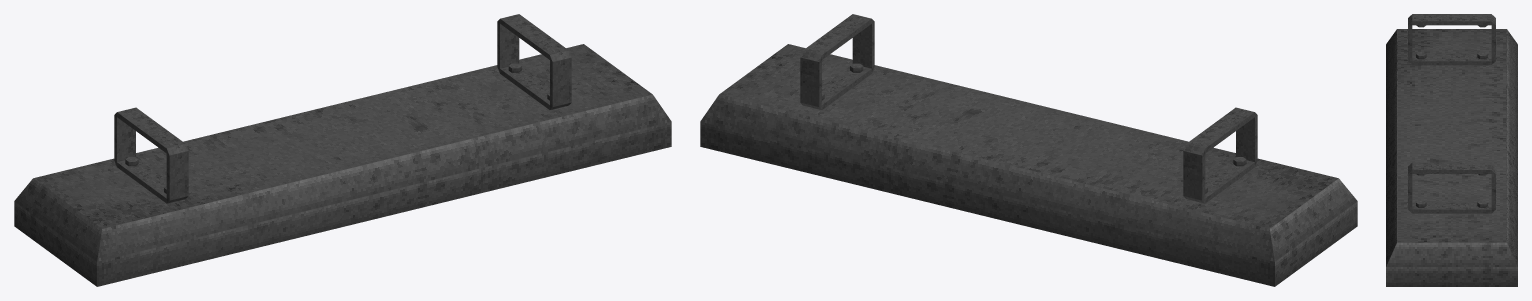
The model's file is ceiling_lamp_4_a_off.glb.
3 renders of one model, left to right at view 1: azimuth 30°, elevation 25°; view 2: azimuth 150°, elevation 25°; view 3: azimuth 270°, elevation 25°, orthographic. The views are drawn at different scales.
Visible parts, largest first — view 1: ceiling_lamp_4_a_off; view 2: ceiling_lamp_4_a_off; view 3: ceiling_lamp_4_a_off.
Boxes of the visible parts, left/top/right/bottom form: ceiling_lamp_4_a_off: left=14, top=14, right=671, bottom=286; ceiling_lamp_4_a_off: left=700, top=14, right=1357, bottom=286; ceiling_lamp_4_a_off: left=1386, top=14, right=1517, bottom=286.
Size of the model in its own units: 1.2 by 0.21 by 0.3.
1 material, 1 textured.
